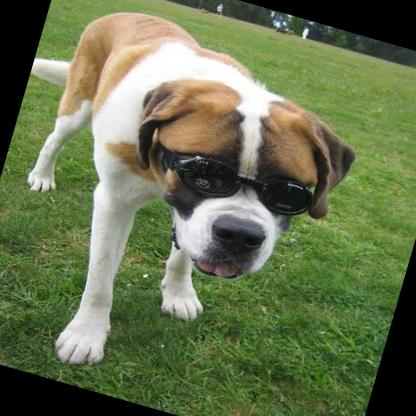Saint_Bernard: (0, 0, 378, 416)
